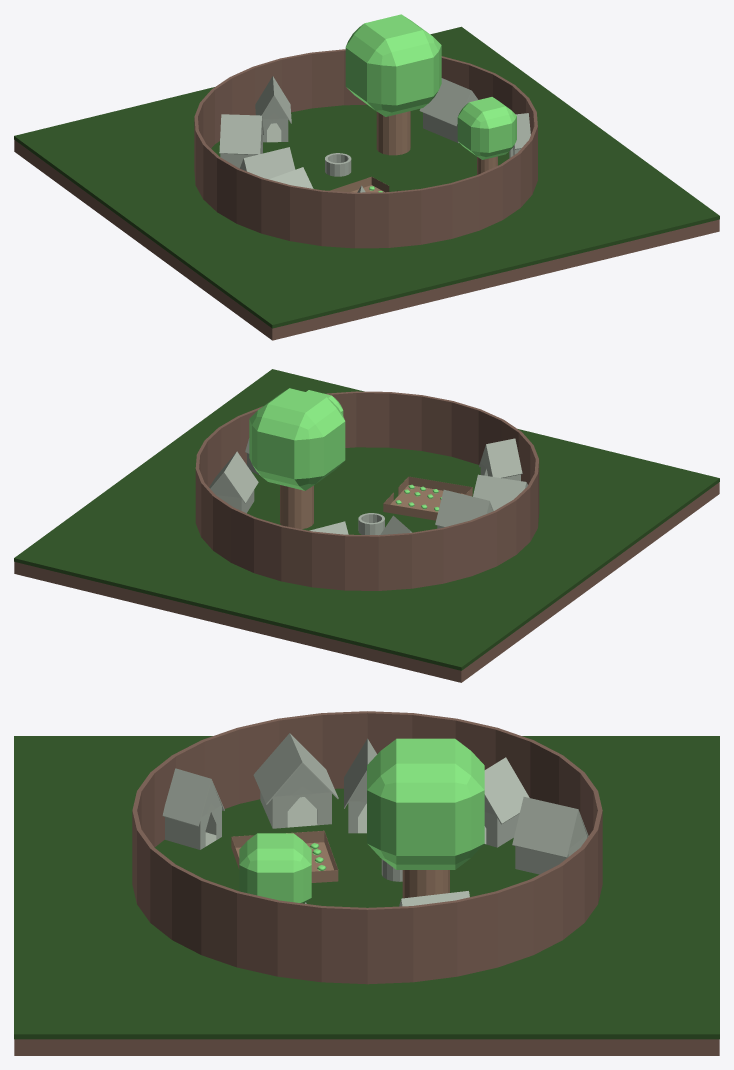
Rendered from TerrenoVilarejo.fbx.
3 renders of one model, top to bottom at view 1: azimuth 30°, elevation 25°; view 2: azimuth 150°, elevation 25°; view 3: azimuth 270°, elevation 25°, orthographic. The views are drawn at different scales.
Parts seen in each view (by area): view 1: Grama, Muro, Terreno, Arvore.001, Arvore.002, Casa.001, Casa.005, Casa.004, Tronco.001, Casa.007, Poco, Plantacao; view 2: Grama, Muro, Terreno, Arvore.001, Plantacao, Casa.005, Casa.007, Casa.003, Tronco.001, Casa.002, Poco; view 3: Grama, Muro, Arvore.001, Terreno, Casa.002, Arvore.002, Casa.004, Casa.003, Casa.001, Casa.007, Plantacao, Tronco.001 (+1 smaller).
Boxes of the visible parts, x1,y1,x2,y2 form: Grama: (14, 26, 719, 328); Muro: (194, 49, 537, 248); Terreno: (14, 140, 719, 340); Arvore.001: (345, 14, 441, 116); Arvore.002: (457, 97, 516, 159); Casa.001: (219, 114, 263, 168); Casa.005: (419, 78, 478, 142); Casa.004: (255, 76, 291, 142); Tronco.001: (376, 111, 410, 155); Casa.007: (240, 147, 295, 179); Poco: (325, 153, 351, 176); Plantacao: (330, 176, 397, 192); Grama: (14, 369, 719, 670); Muro: (195, 391, 539, 590); Terreno: (14, 482, 719, 682); Arvore.001: (249, 388, 345, 490); Plantacao: (383, 476, 472, 520); Casa.005: (209, 451, 258, 513); Casa.007: (435, 489, 493, 528); Casa.003: (479, 438, 522, 480); Tronco.001: (280, 485, 313, 529); Casa.002: (473, 474, 527, 510); Poco: (358, 513, 384, 535); Grama: (14, 736, 719, 1039); Muro: (132, 711, 602, 984); Arvore.001: (367, 738, 484, 869); Terreno: (14, 1039, 719, 1055); Casa.002: (253, 733, 338, 828); Arvore.002: (239, 833, 311, 903); Casa.004: (512, 797, 588, 874); Casa.003: (162, 768, 224, 849); Casa.001: (484, 757, 529, 847); Casa.007: (344, 738, 377, 833); Plantacao: (231, 830, 338, 882); Tronco.001: (402, 870, 449, 898).
Size of the model in its own units: 3003 by 881 by 3003.
